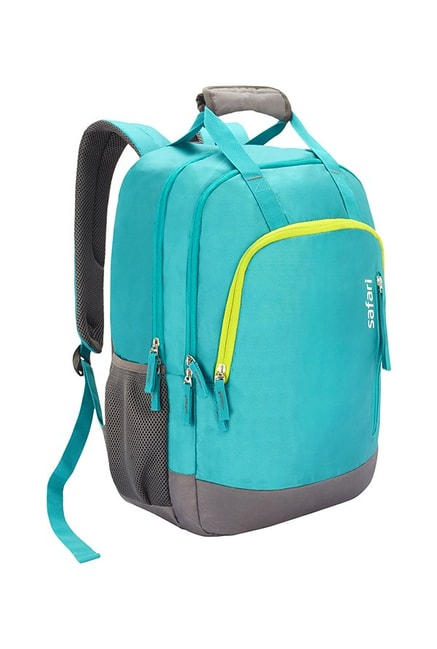backpack: (46, 84, 391, 563)
